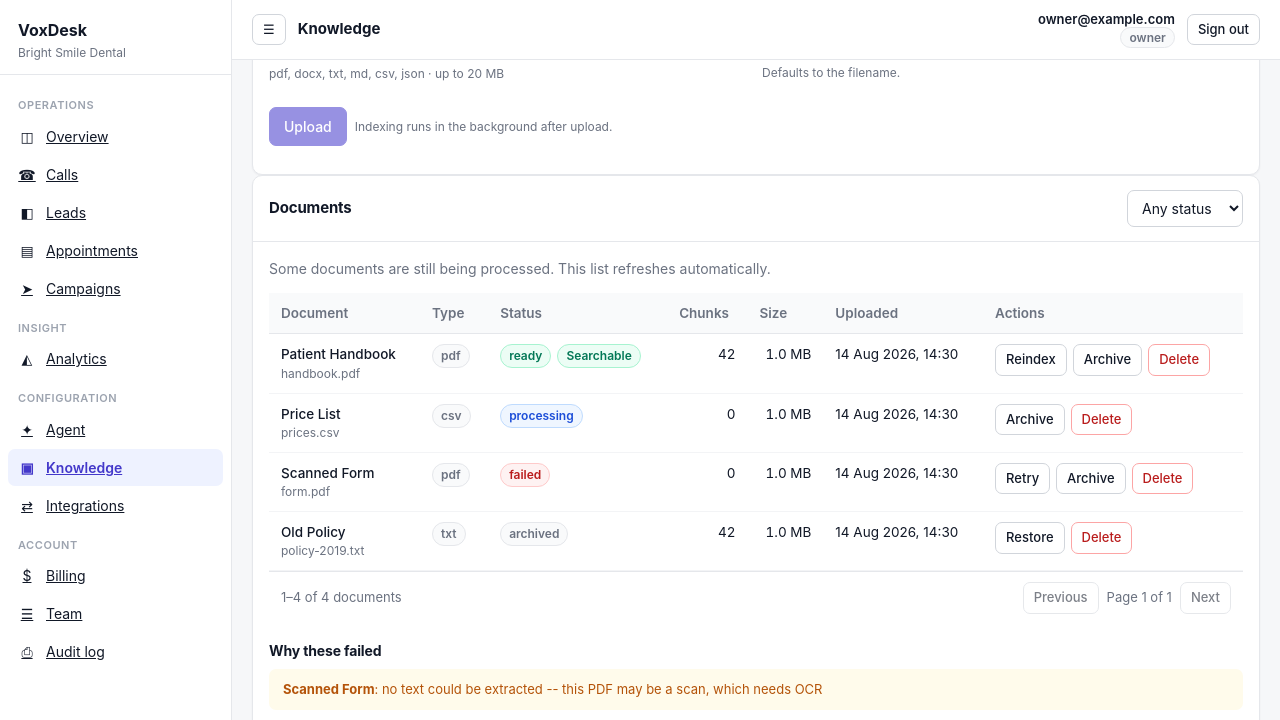
it: archive and delete confirmation › cancelling sends nothing
(page scrolled)
What coordinates should you click on to do the following:
click the button "Archive" in the row of "Patient Handbook"
I would click on:
 (1107, 360)
Its box is [1073,344,1142,376].
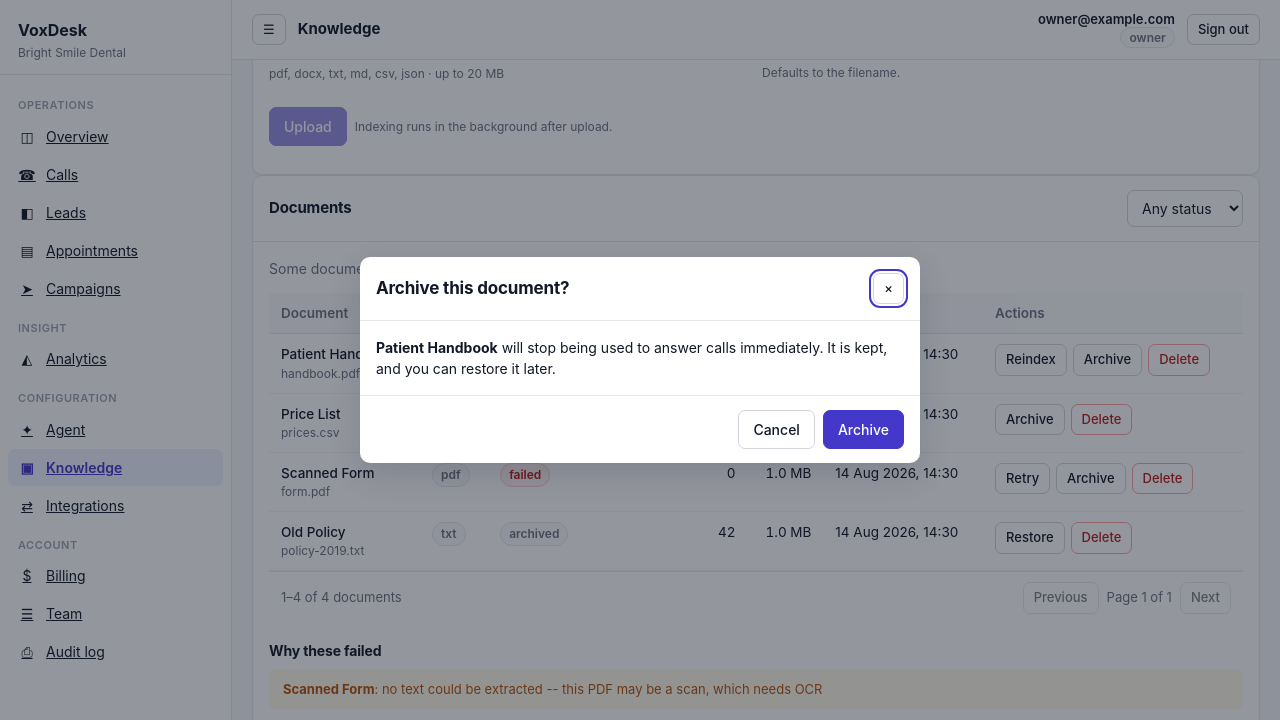
What coordinates should you click on to do the following:
click the button "Cancel"
I would click on:
 (777, 430)
Its box is [738,410,815,449].
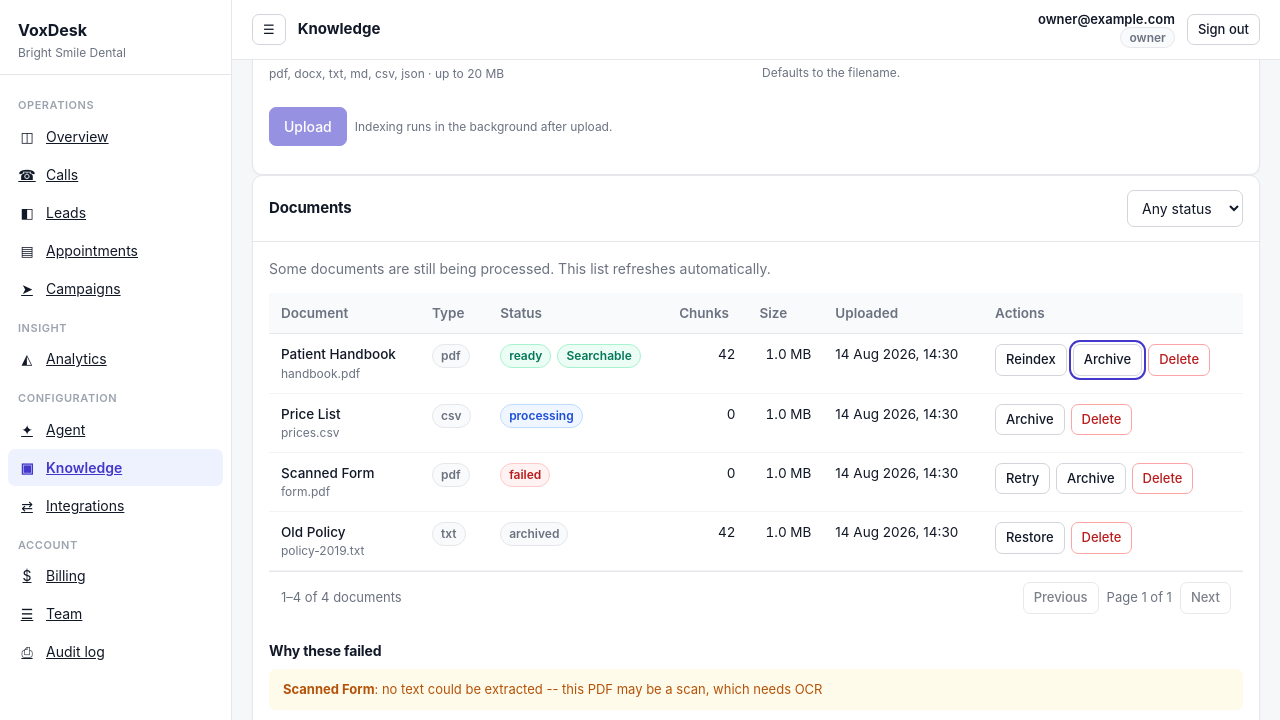
Now the dialog is gone
